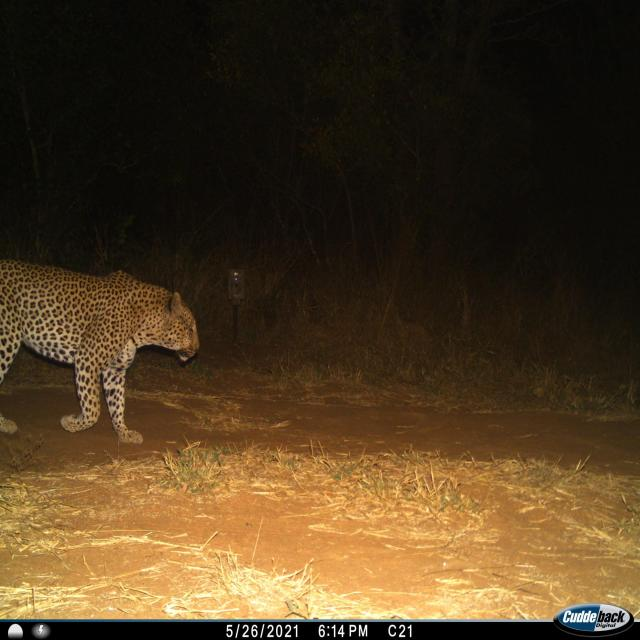Leopard: (0, 249, 192, 444)
